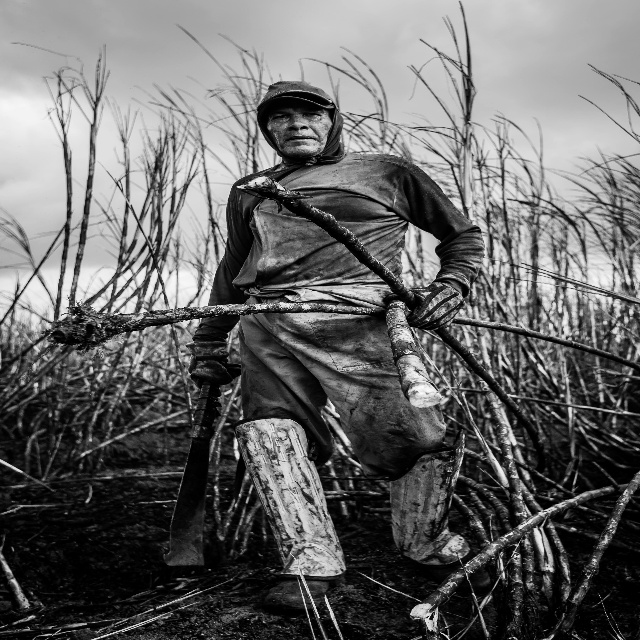Guantes: (406, 276, 466, 333), (184, 339, 242, 387)
